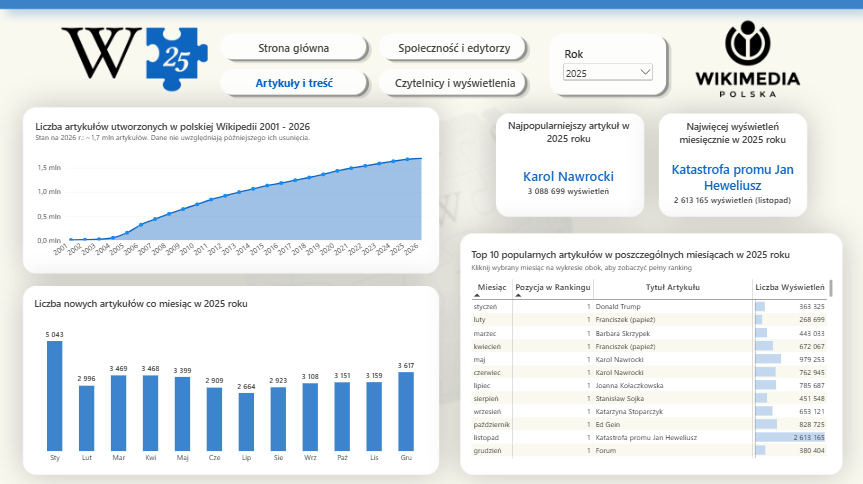

This screenshot's page, from the dashboard's own definition file:
{"tool":"powerbi","page":{"name":"2_Artykuły i treść","canvas":[1920,1080],"ordinal":1},"visuals":[{"type":"actionButton","box":[539.1,155.5,227.3,57.8],"z":0},{"type":"actionButton","box":[845.3,74.3,329.8,65.5],"z":1000},{"type":"actionButton","box":[846.9,155.5,329.7,57.8],"z":2000},{"type":"actionButton","box":[513.3,77.3,278.6,58.3],"z":3000},{"type":"clusteredColumnChart","fields":{"Category":["DimDate.Miesiąc Skrót"],"Y":["Sum(2_nowe_artykuly_clean.Liczba Nowych Artykułów)"]},"box":[60.5,644.7,905.3,403.9],"z":4000},{"type":"areaChart","title":"Liczba artykułów utworzonych w polskiej Wikipedii 2001 - 2026","fields":{"Category":["DimDate.Rok"],"Y":["_MEASURES.Suma Skumulowana Artykulow mln"]},"box":[61.8,250,902.6,351.3],"z":5000},{"type":"tableEx","fields":{"Values":["DimDate.Miesiąc","5_top_1000_artykulow_clean.Pozycja w Rankingu","5_top_1000_artykulow_clean.Tytuł Artykułu","5_top_1000_artykulow_clean.Liczba Wyświetleń"]},"box":[1030.3,535.7,835.9,499],"z":6000},{"type":"cardVisual","fields":{"Data":["_MEASURES.Top Artykul Nazwa Rok"]},"box":[1109.5,265.1,309.5,207.9],"z":7000},{"type":"cardVisual","fields":{"Data":["_MEASURES.Największy Szczyt Miesięczny"]},"box":[1473.7,265.8,309.2,209.2],"z":8000},{"type":"slicer","title":"Rok","fields":{"Values":["DimDate.Rok"]},"box":[1240,93.3,208.9,86.7],"z":9000}]}

Visuals, with their boxes in screenshot pixels (x1, y1, x2, y2), scaled from the page's 1920x1080 canvas onto the 863x484 screenshot:
actionButton: rect(242, 70, 344, 96)
actionButton: rect(380, 33, 528, 63)
actionButton: rect(381, 70, 529, 96)
actionButton: rect(231, 35, 356, 61)
clusteredColumnChart - DimDate.Miesiąc Skrót x Sum(2_nowe_artykuly_clean.Liczba Nowych Artykułów): rect(27, 289, 434, 470)
"Liczba artykułów utworzonych w polskiej Wikipedii 2001 - 2026" areaChart: rect(28, 112, 433, 269)
tableEx - DimDate.Miesiąc x 5_top_1000_artykulow_clean.Pozycja w Rankingu: rect(463, 240, 839, 464)
cardVisual - _MEASURES.Top Artykul Nazwa Rok: rect(499, 119, 638, 212)
cardVisual - _MEASURES.Największy Szczyt Miesięczny: rect(662, 119, 801, 213)
"Rok" slicer: rect(557, 42, 651, 81)
